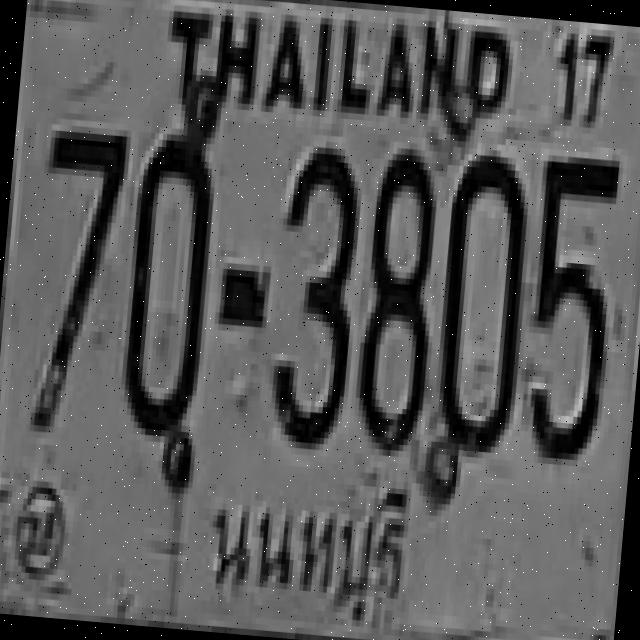0: (426, 146, 532, 460), (116, 126, 219, 444)
3: (264, 138, 365, 446)
5: (518, 148, 620, 461)
7: (22, 126, 126, 434)
8: (350, 146, 444, 452)
Nonthaburi: (205, 467, 415, 632)
